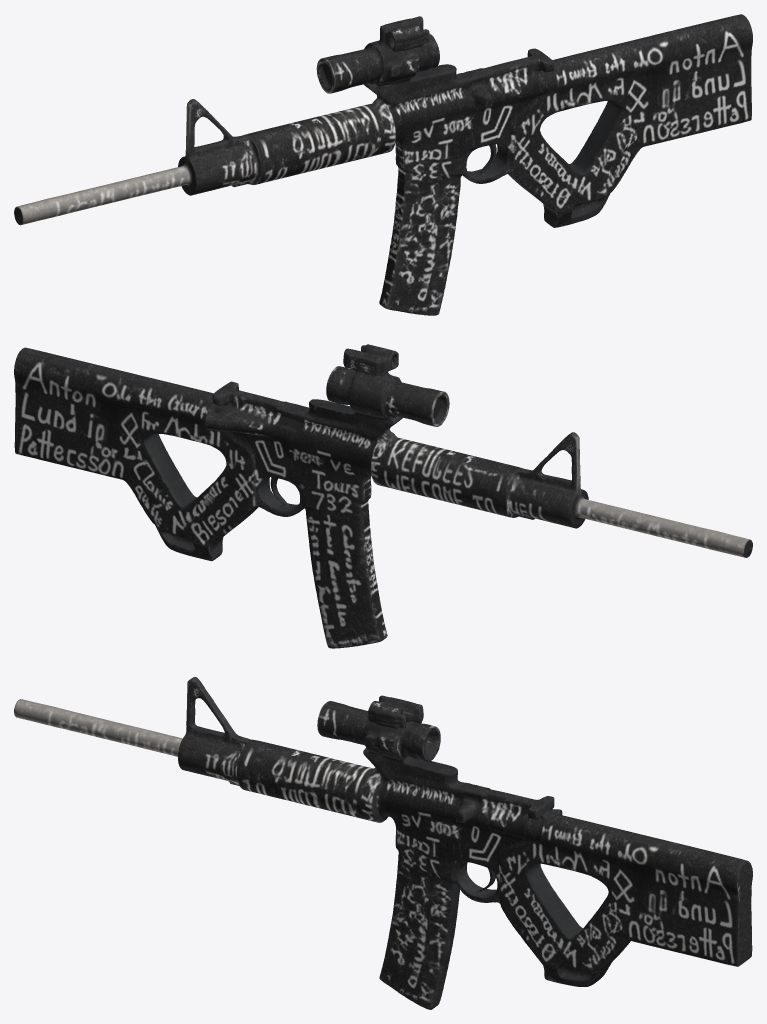
File: gun.glb
3 views of the same model, one above another, from view 1: azimuth 30°, elevation 25°; view 2: azimuth 150°, elevation 25°; view 3: azimuth 330°, elevation 25° (orthographic).
Bounding box in the file's own units: 1.9 × 0.7505 × 0.1477.
1 material, 1 textured.
